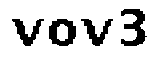3: (116, 6, 149, 49)
o: (47, 19, 76, 48)
v: (10, 16, 45, 49), (80, 17, 115, 48)
